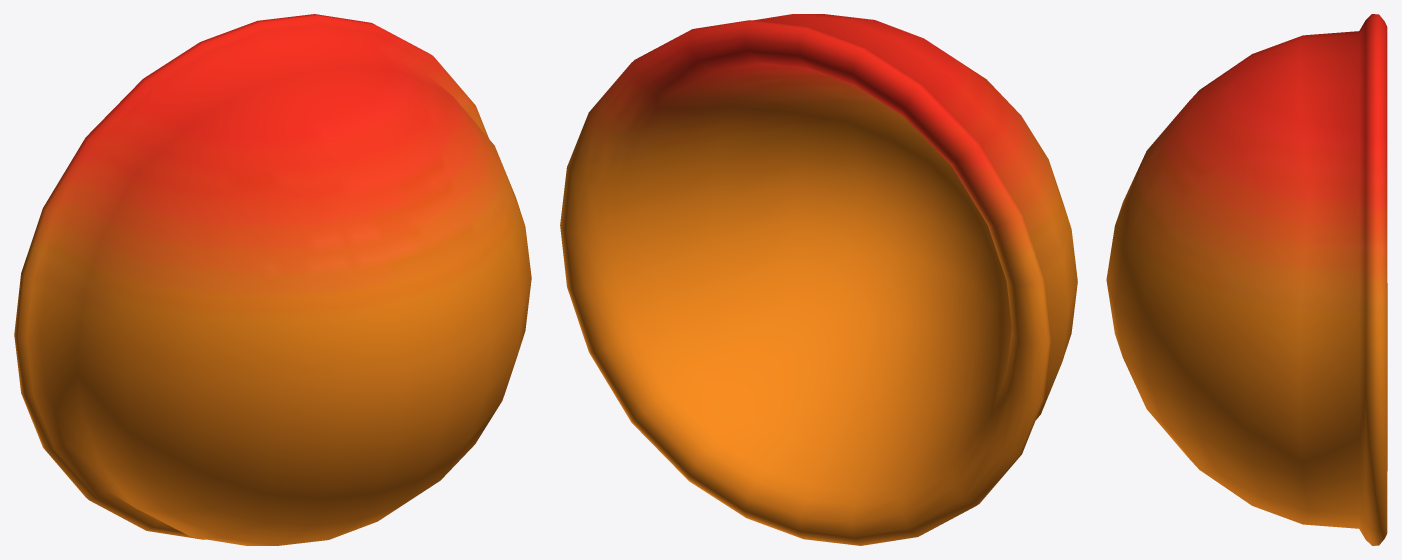
Rendered from AmongUs_Cut_02_Pupka_004_0.FBX.
The picture shows the model from 3 angles, left to right: view 1: azimuth 30°, elevation 25°; view 2: azimuth 150°, elevation 25°; view 3: azimuth 270°, elevation 25°; orthographic projection. The views are drawn at different scales.
Parts seen in each view (by area): view 1: AmongUs_Cut_02_Pupka_004_0; view 2: AmongUs_Cut_02_Pupka_004_0; view 3: AmongUs_Cut_02_Pupka_004_0.
Part boxes in pixels (x1,y1,x2,y2): AmongUs_Cut_02_Pupka_004_0: (14,14,531,545); AmongUs_Cut_02_Pupka_004_0: (560,14,1077,545); AmongUs_Cut_02_Pupka_004_0: (1106,14,1387,545).
Bounding box in the file's own units: 0.7857 × 0.4145 × 0.7857.
